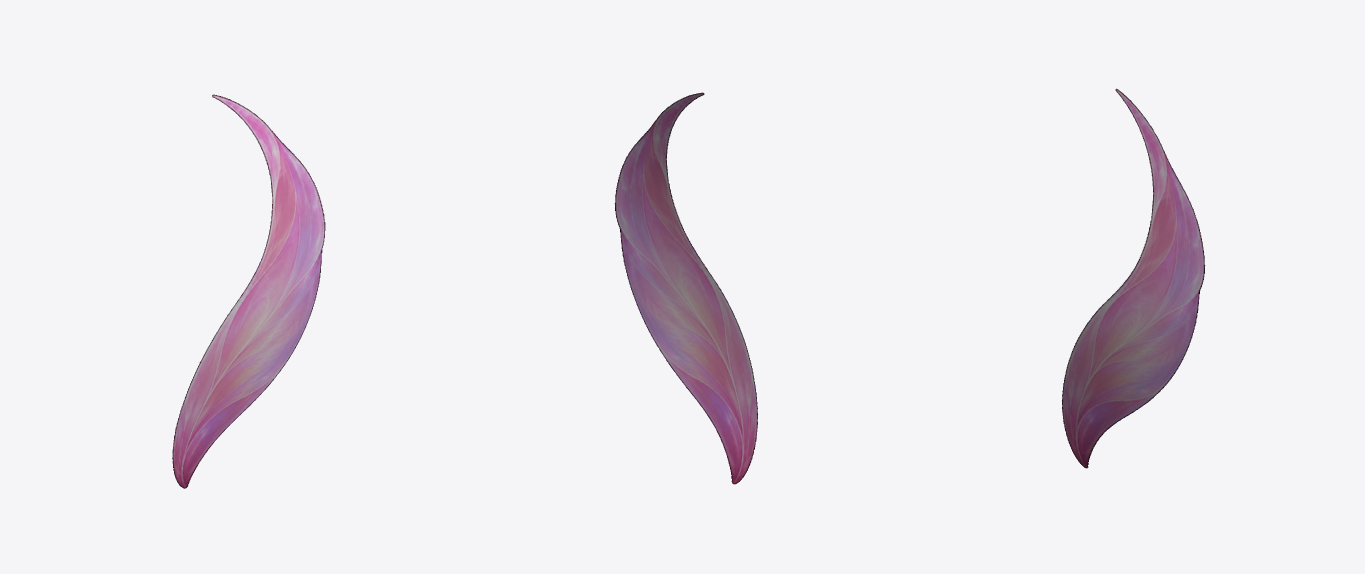
Rendered from petal_1.glb.
The picture shows the model from 3 angles, left to right: view 1: azimuth 30°, elevation 25°; view 2: azimuth 150°, elevation 25°; view 3: azimuth 330°, elevation 25°; orthographic projection.
Size of the model in its own units: 1 by 1 by 0.0875.
Materials: 1 (1 with a texture image).
